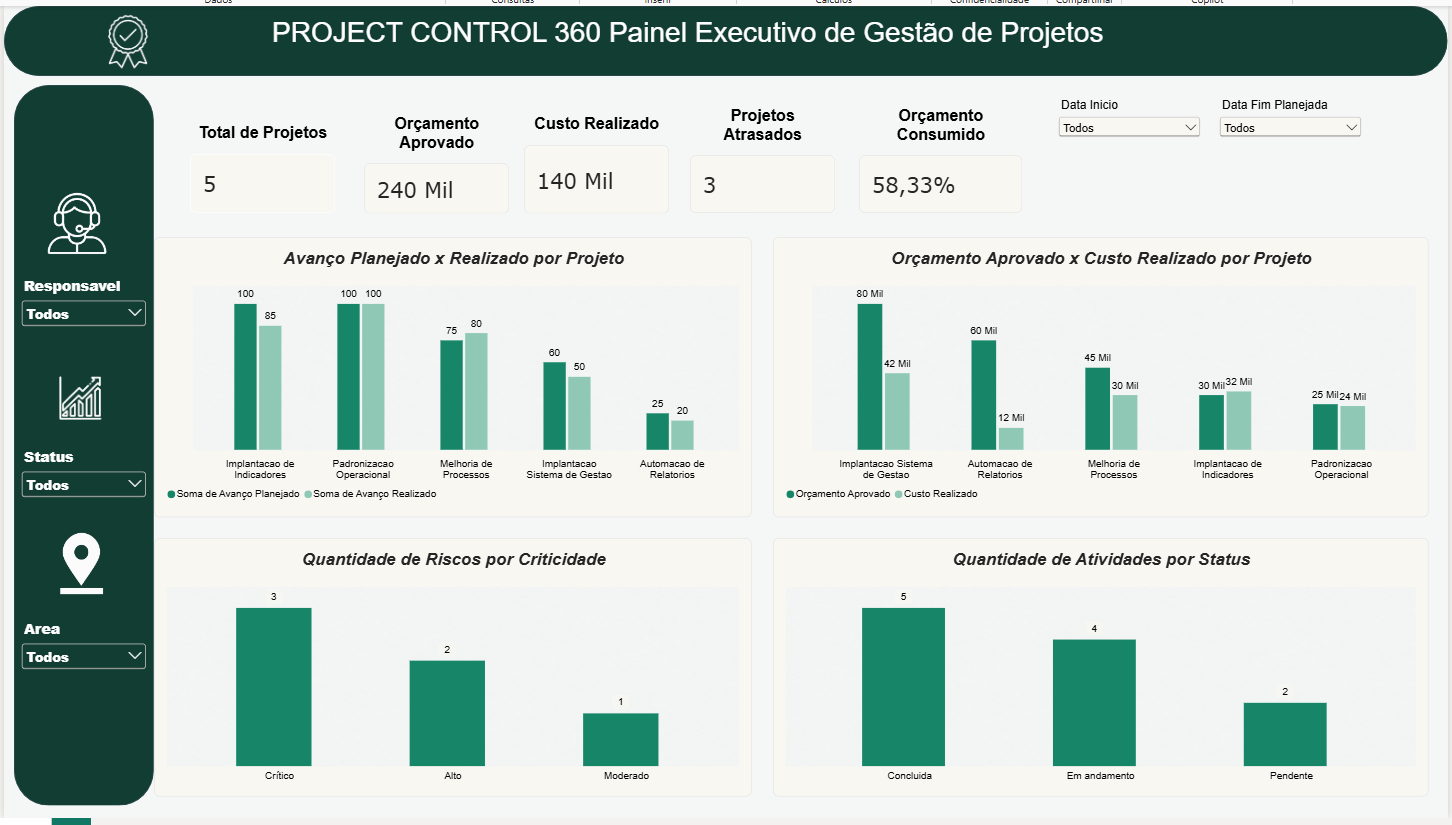

This screenshot's page, from the dashboard's own definition file:
{"tool":"powerbi","page":{"name":"Página 1","canvas":[1920,1080],"ordinal":0},"visuals":[{"type":"cardVisual","title":"Total de Projetos","fields":{"Data":["indicadores_projetos.Total de Projetos"]},"box":[246.9,157,193.5,118.9],"z":0},{"type":"cardVisual","title":"Orçamento Aprovado","fields":{"Data":["indicadores_projetos.Orçamento Aprovado"]},"box":[478.5,144.8,193.5,131],"z":1000},{"type":"cardVisual","title":"Custo Realizado","fields":{"Data":["indicadores_projetos.Custo Realizado"]},"box":[691.8,144.8,193.5,131],"z":2000},{"type":"cardVisual","title":"Projetos Atrasados","fields":{"Data":["indicadores_projetos.Projetos Atrasados"]},"box":[912.8,134.1,193.5,141.7],"z":3000},{"type":"cardVisual","title":"Orçamento Consumido","fields":{"Data":["indicadores_projetos.% Orçamento Consumido"]},"box":[1136.8,134.1,217.9,141.7],"z":4000},{"type":"clusteredColumnChart","title":"Avanço Planejado x Realizado por Projeto","fields":{"Category":["indicadores_projetos.nome_projeto"],"Y":["Sum(indicadores_projetos.avanco_planejado_pct)","Sum(indicadores_projetos.avanco_realizado_pct)"]},"box":[199.6,307.8,795.4,373.3],"z":5000},{"type":"clusteredColumnChart","title":"Orçamento Aprovado x Custo Realizado por Projeto","fields":{"Category":["indicadores_projetos.nome_projeto"],"Y":["indicadores_projetos.Orçamento Aprovado","indicadores_projetos.Custo Realizado"]},"box":[1022.5,307.8,871.6,373.3],"z":6000},{"type":"lineClusteredColumnComboChart","title":"Quantidade de Riscos por Criticidade","fields":{"Category":["riscos_classificados.criticidade"],"Y":["CountNonNull(riscos_classificados.id_risco)"]},"box":[199.6,707,795.4,344.4],"z":7000},{"type":"lineClusteredColumnComboChart","title":"Quantidade de Atividades por Status","fields":{"Category":["atividades_por_status.status"],"Y":["Sum(atividades_por_status.quantidade_atividades)"]},"box":[1022.5,707,871.6,344.4],"z":8000},{"type":"shape","box":[0,0,1920,93],"z":9000},{"type":"textbox","box":[356.6,13.7,1255.6,53.3],"z":10000},{"type":"slicer","fields":{"Values":["indicadores_projetos.data_inicio"]},"box":[1397.3,121.9,198.1,68.6],"z":12000},{"type":"shape","box":[13.7,105.1,185.9,958.5],"z":13000},{"type":"slicer","fields":{"Values":["riscos_classificados.responsavel"]},"box":[18.3,358.1,175.2,100.6],"z":13001},{"type":"slicer","fields":{"Values":["riscos_classificados.status"]},"box":[18.3,585.1,175.2,100.6],"z":13002},{"type":"slicer","fields":{"Values":["indicadores_projetos.area"]},"box":[18.3,813.7,175.2,100.6],"z":13003},{"type":"slicer","fields":{"Values":["indicadores_projetos.data_fim_planejada"]},"box":[1612.2,121.9,198.1,68.6],"z":13004},{"type":"image","box":[82.3,0,164.6,93],"z":13005},{"type":"image","box":[29,472.4,146.3,93],"z":13006},{"type":"image","box":[29,228.6,135.6,115.8],"z":13007},{"type":"image","box":[42.7,681.1,121.9,118.9],"z":13008}]}

Visuals, with their boxes in screenshot pixels (x1, y1, x2, y2):
"Total de Projetos" cardVisual: region(187, 121, 337, 213)
"Orçamento Aprovado" cardVisual: region(366, 112, 516, 213)
"Custo Realizado" cardVisual: region(531, 112, 681, 213)
"Projetos Atrasados" cardVisual: region(702, 104, 852, 213)
"Orçamento Consumido" cardVisual: region(875, 104, 1044, 213)
"Avanço Planejado x Realizado por Projeto" clusteredColumnChart: region(151, 238, 766, 527)
"Orçamento Aprovado x Custo Realizado por Projeto" clusteredColumnChart: region(787, 238, 1451, 527)
"Quantidade de Riscos por Criticidade" lineClusteredColumnComboChart: region(151, 547, 766, 813)
"Quantidade de Atividades por Status" lineClusteredColumnComboChart: region(787, 547, 1451, 813)
shape: region(0, 0, 1451, 72)
textbox: region(272, 11, 1243, 52)
slicer - indicadores_projetos.data_inicio: region(1077, 94, 1230, 147)
shape: region(7, 81, 151, 822)
slicer - riscos_classificados.responsavel: region(10, 277, 146, 355)
slicer - riscos_classificados.status: region(10, 452, 146, 530)
slicer - indicadores_projetos.area: region(10, 629, 146, 707)
slicer - indicadores_projetos.data_fim_planejada: region(1243, 94, 1396, 147)
image: region(60, 0, 187, 72)
image: region(19, 365, 132, 437)
image: region(19, 177, 123, 266)
image: region(29, 527, 123, 619)
